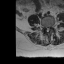CCS_normal: (47, 25, 48, 33)
LFS_severe_stenosis: (50, 23, 52, 29)
LLS_stenosis: (48, 24, 50, 32)
RFS_severe_stenosis: (43, 23, 45, 29)
RLS_stenosis: (45, 24, 47, 32)
